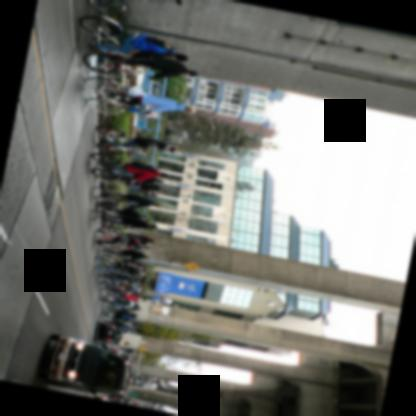backpack: (143, 35, 174, 51), (126, 161, 157, 175), (128, 231, 140, 237)
